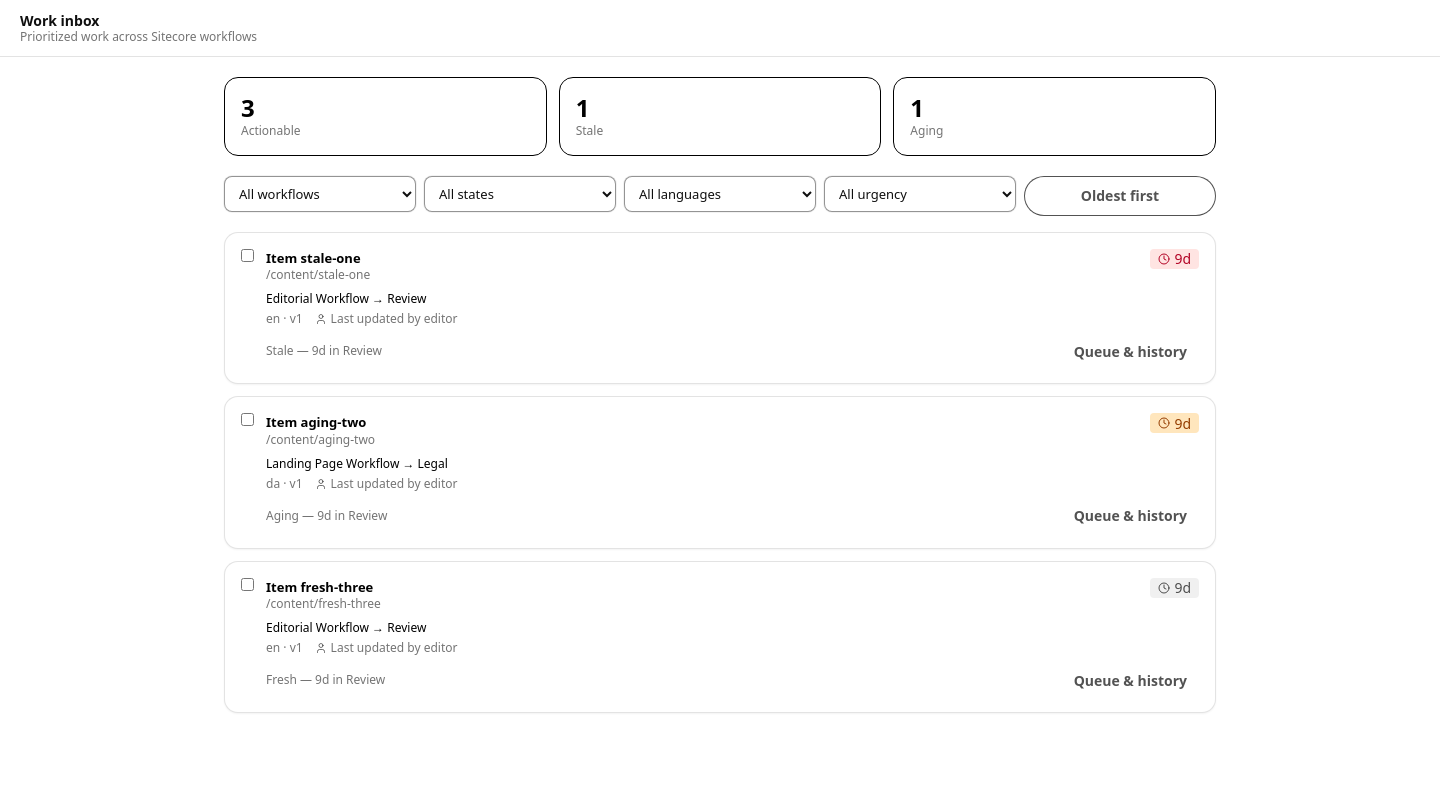
Work inbox › still executes an item that was pushed past the first fresh page
Click the checkbox with test id "checkbox-inbox-stale-one" at (248, 255), box top-left (241, 249), bottom-right (254, 262)
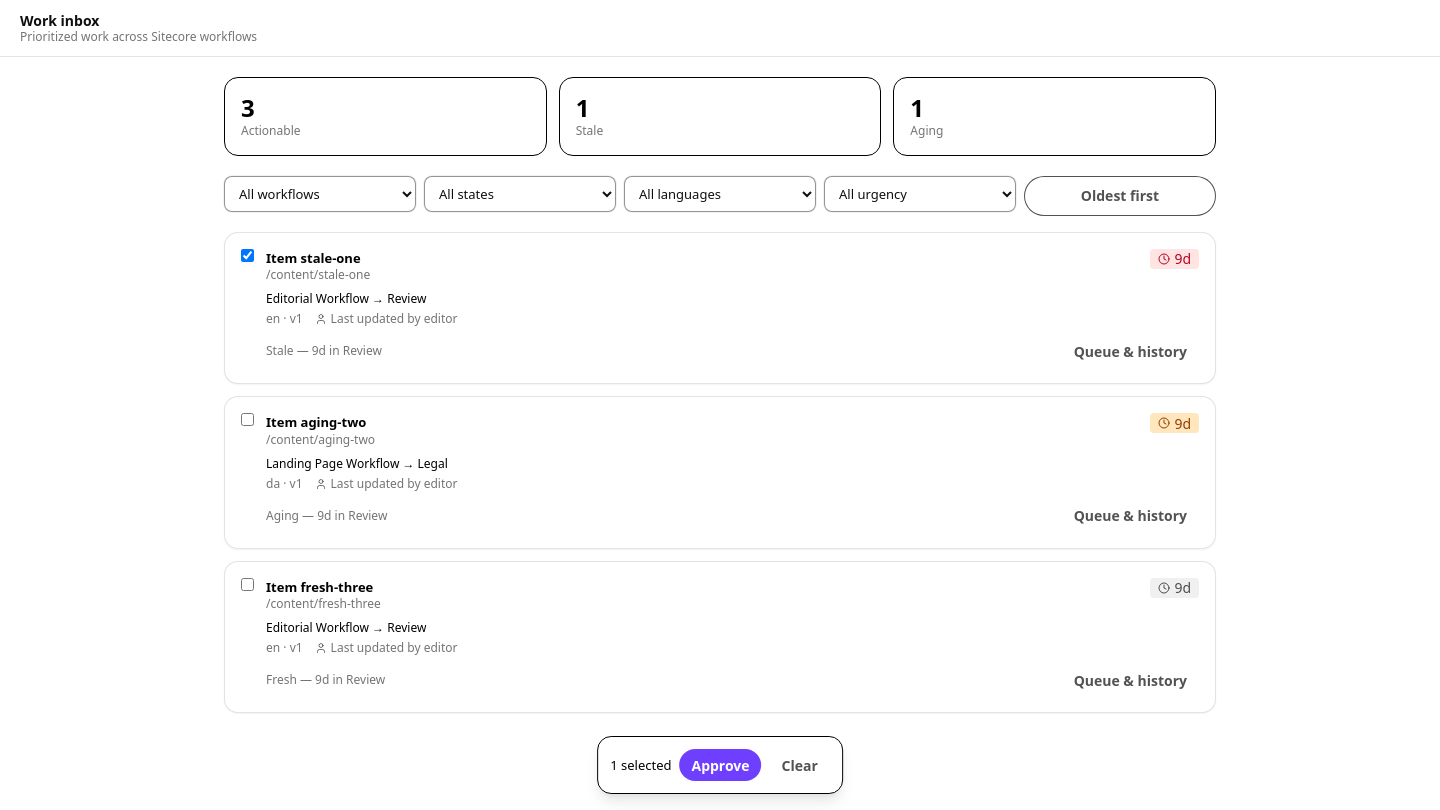
Click the button with test id "button-bulk-approve" at (721, 765), box top-left (680, 749), bottom-right (762, 781)
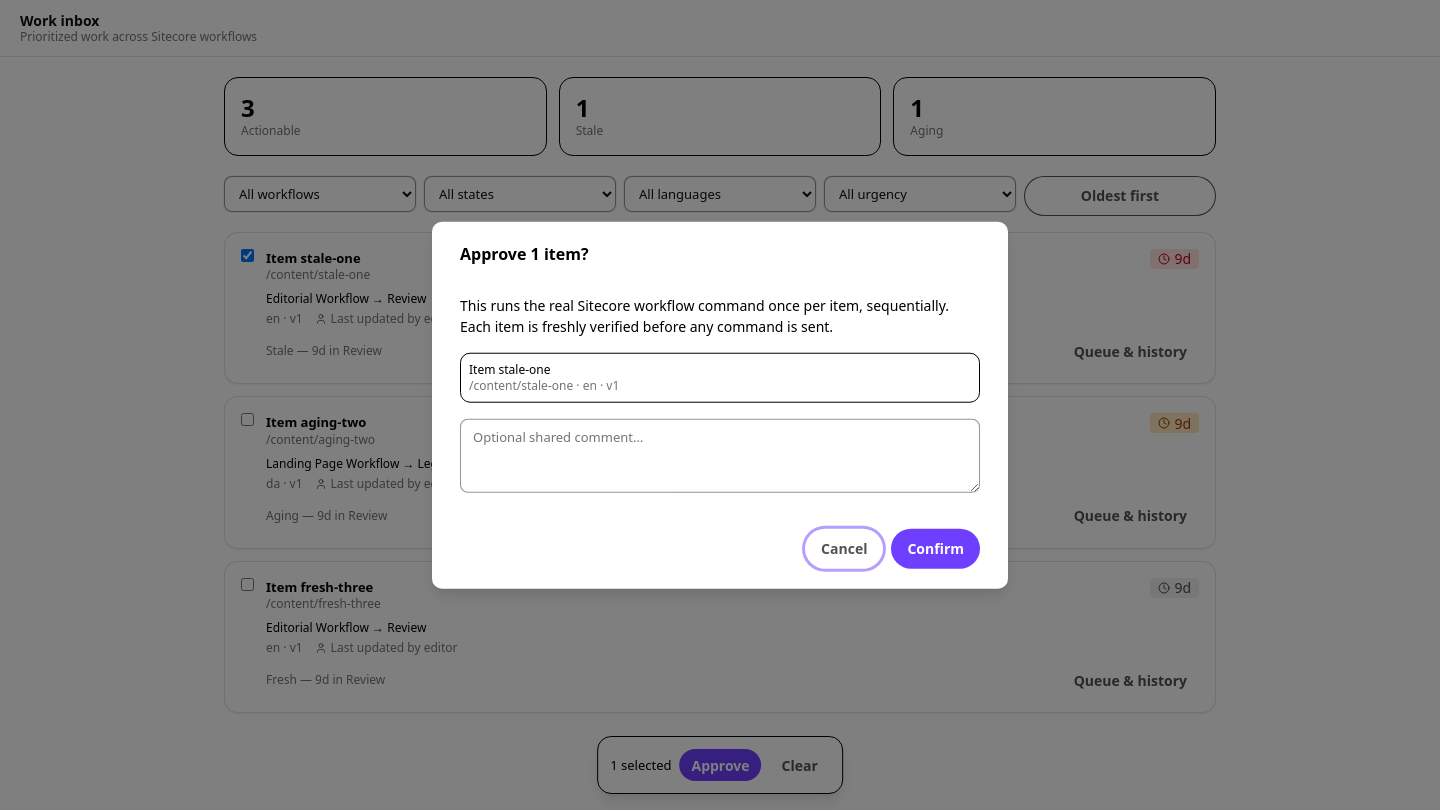
Click the button with test id "button-confirm-bulk" at (936, 548), box top-left (891, 528), bottom-right (980, 568)
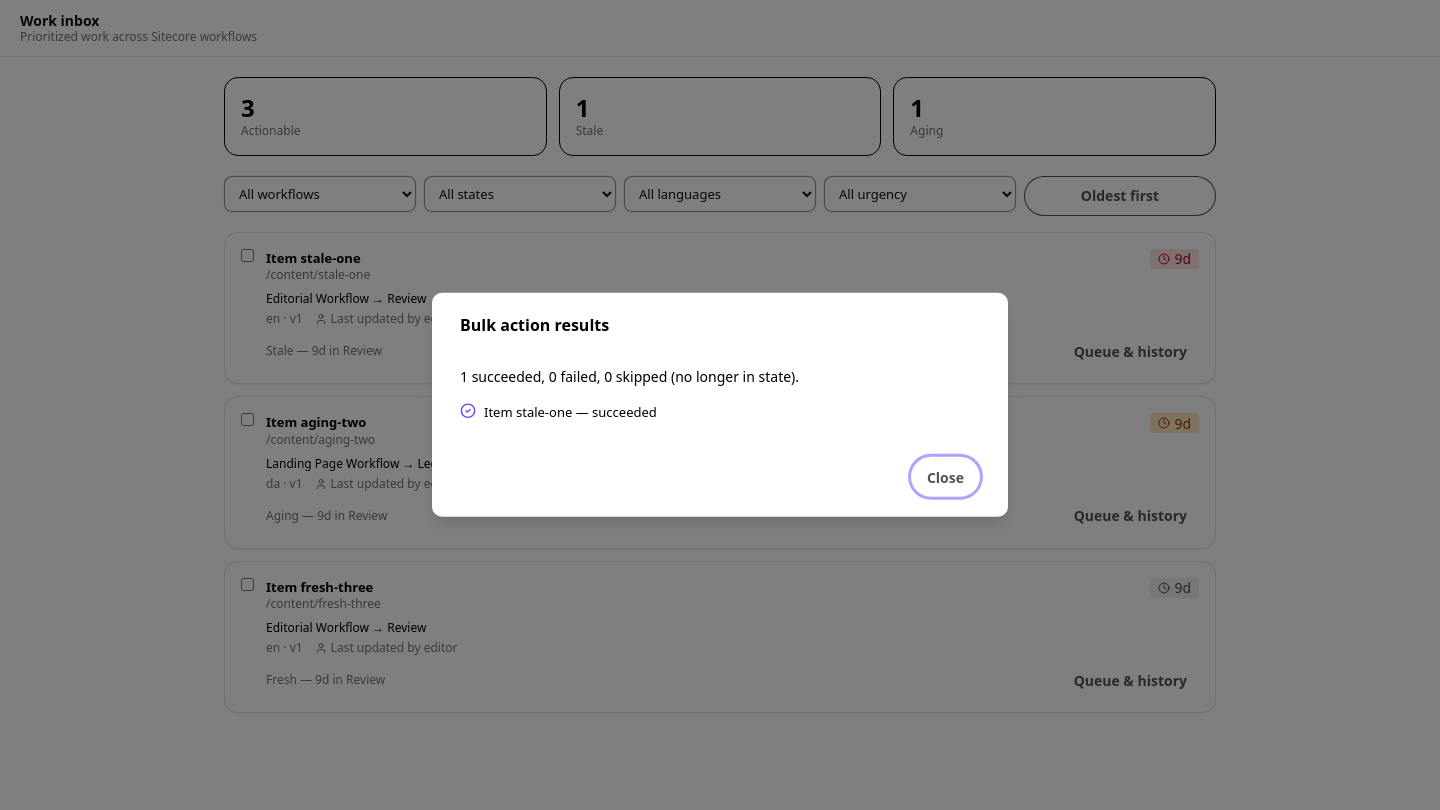
Result: the text "1 succeeded, 0 failed, 0 skipped (no longer in state)." is shown at top-left (460, 367), bottom-right (799, 386)
